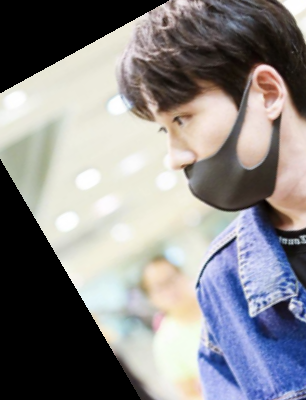mask_weared_incorrect: (112, 3, 306, 213)
